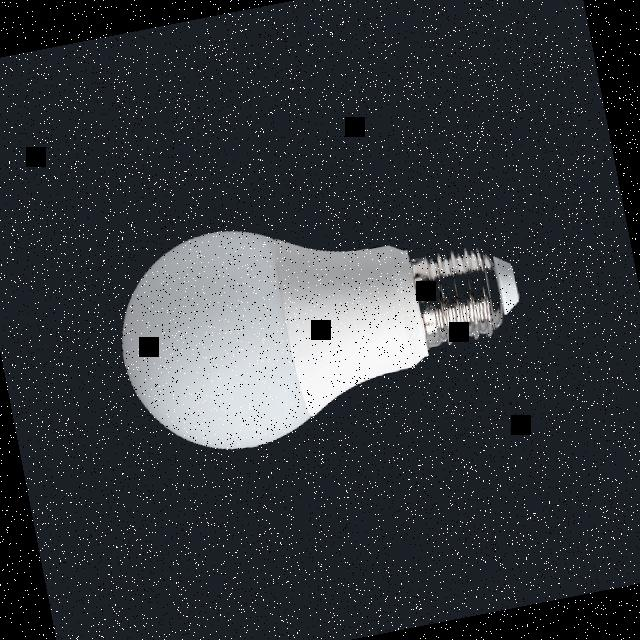light_bulb: (100, 162, 562, 486)
